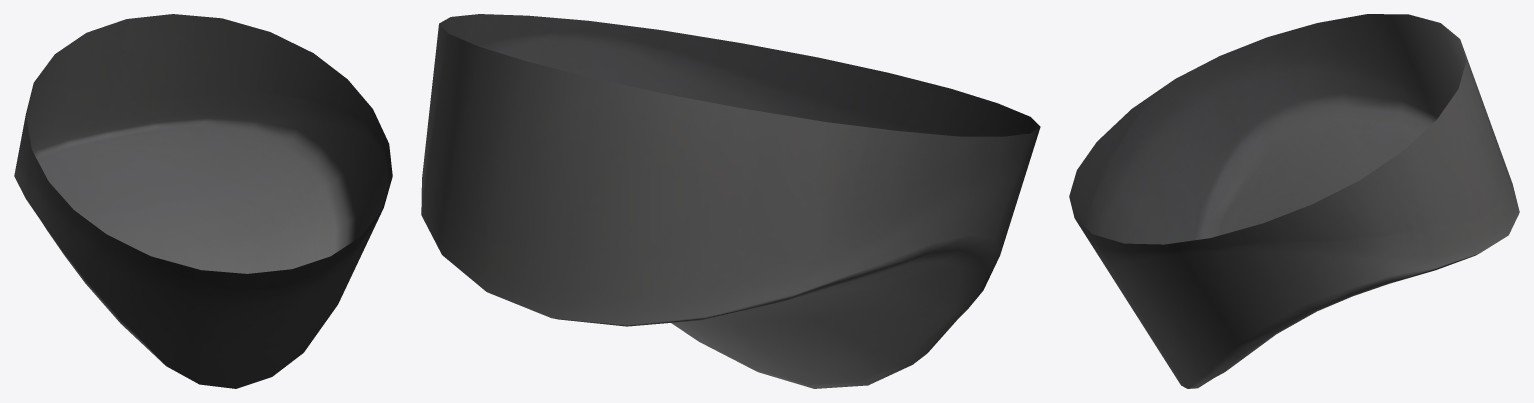
The model's file is L_trigger.obj.
3 renders of one model, left to right at view 1: azimuth 30°, elevation 25°; view 2: azimuth 150°, elevation 25°; view 3: azimuth 270°, elevation 25°, orthographic. The views are drawn at different scales.
Visible parts, largest first — view 1: L_trigger; view 2: L_trigger; view 3: L_trigger.
Boxes of the visible parts, <box> form: L_trigger: <box>14,14,392,388</box>; L_trigger: <box>421,14,1040,388</box>; L_trigger: <box>1069,14,1519,388</box>.
Bounding box in the file's own units: 0.0267 × 0.0217 × 0.0282.
1 material, 1 textured.
